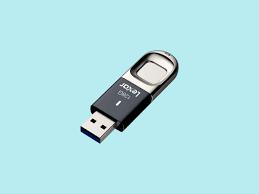Flash-drive: (49, 25, 202, 159)
